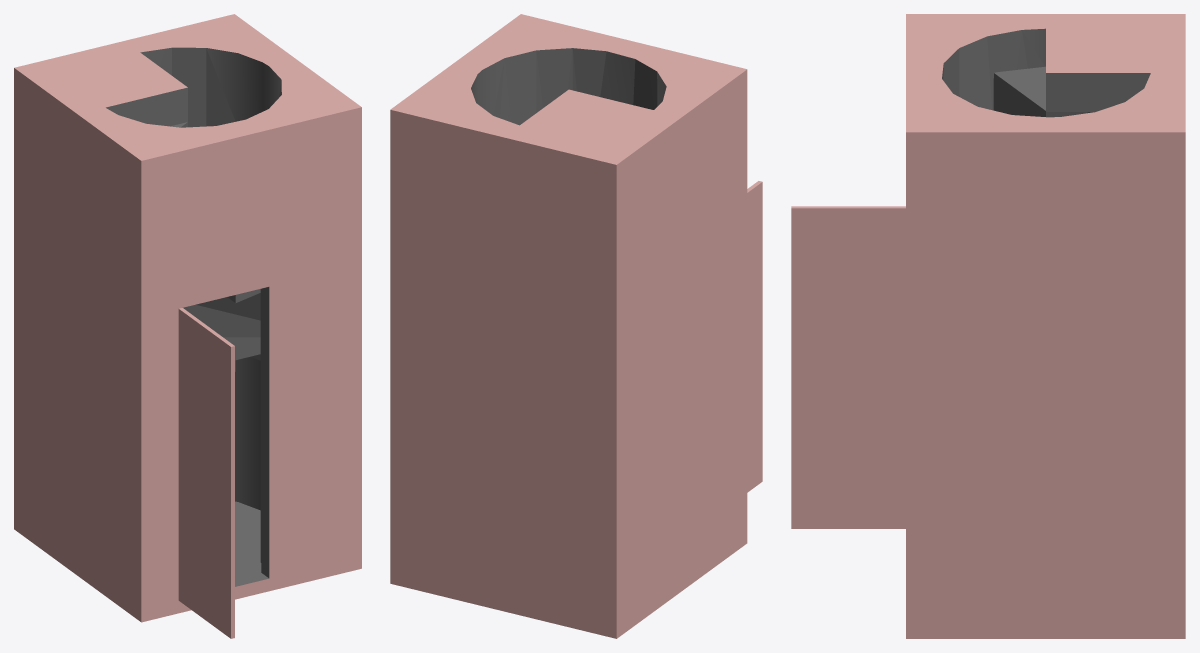
Rendered from stairs.glb.
The picture shows the model from 3 angles, left to right: view 1: azimuth 30°, elevation 25°; view 2: azimuth 150°, elevation 25°; view 3: azimuth 270°, elevation 25°; orthographic projection. The views are drawn at different scales.
Visible parts, largest first — view 1: Stairs.002; view 2: Stairs.002; view 3: Stairs.002.
Boxes of the visible parts, x1,y1,x2,y2 form: Stairs.002: (14,14,361,638); Stairs.002: (390,14,762,638); Stairs.002: (791,14,1185,638).
Size of the model in its own units: 5 by 9.99 by 7.05.
